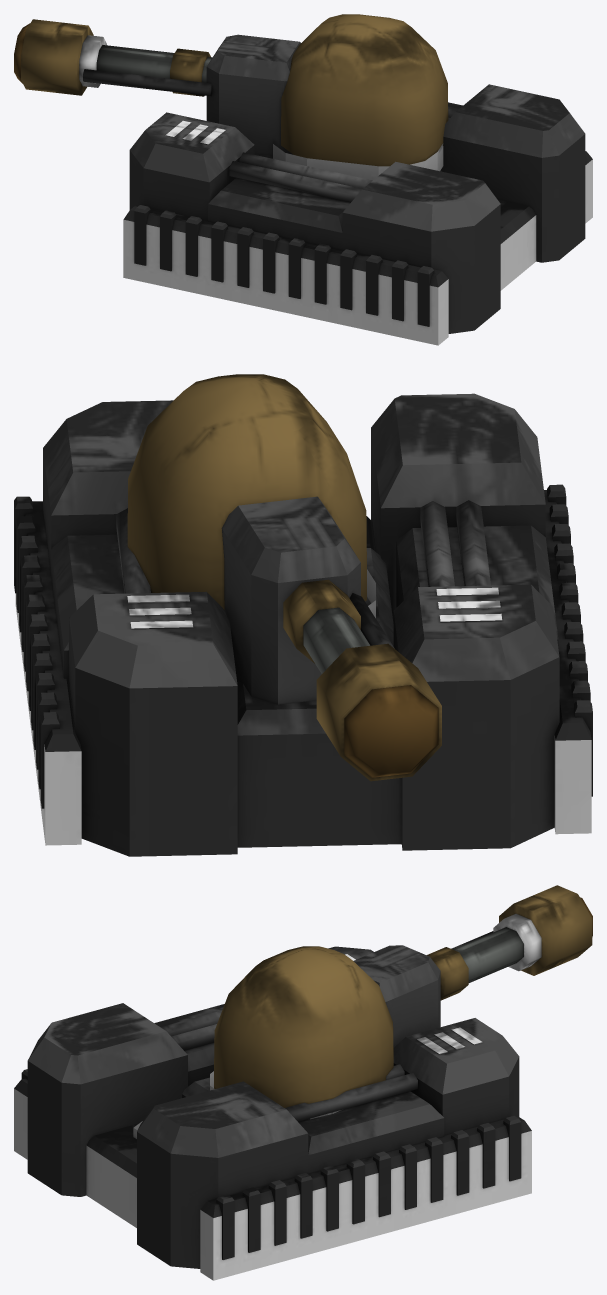
File: newshp-13.glb
The picture shows the model from 3 angles, top to bottom: view 1: azimuth 30°, elevation 25°; view 2: azimuth 150°, elevation 25°; view 3: azimuth 270°, elevation 25°; orthographic projection. The views are drawn at different scales.
Parts seen in each view (by area): view 1: newshp-13; view 2: newshp-13; view 3: newshp-13.
Part boxes in pixels (box(x1,y1,x2,y2)): newshp-13: box(14, 14, 592, 345); newshp-13: box(14, 374, 592, 856); newshp-13: box(14, 885, 592, 1280).
Size of the model in its own units: 1.26 by 0.6167 by 1.4.
Materials: 14 (14 with a texture image).
